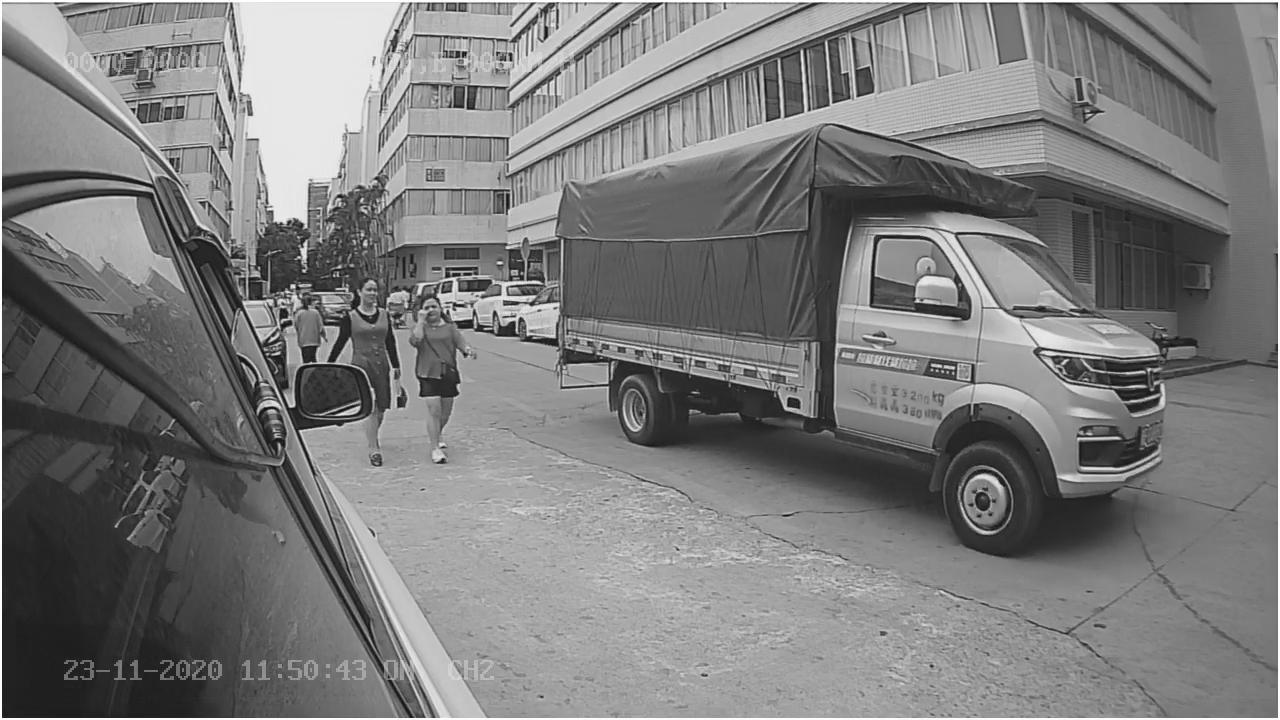person: (409, 300, 483, 463)
